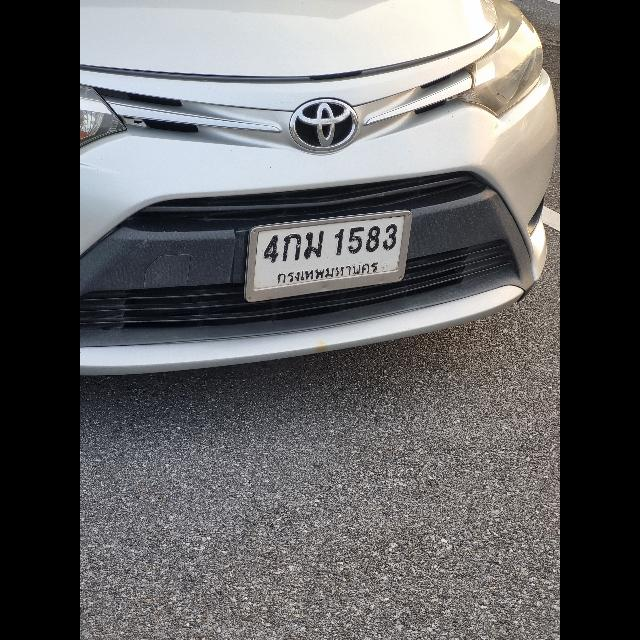licenseplate: (246, 210, 410, 300)
